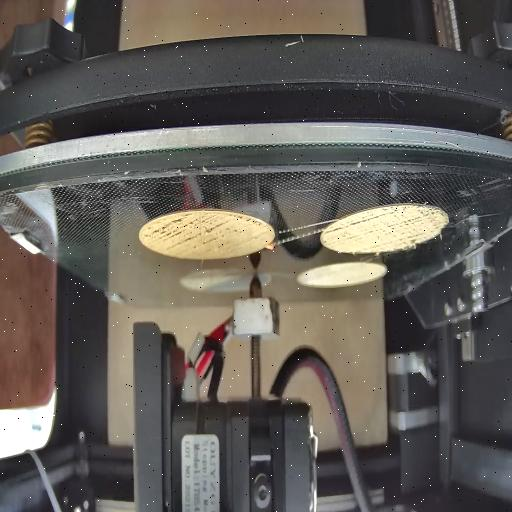under_extrusion: (143, 213, 266, 251), (368, 206, 442, 252), (322, 216, 364, 240)
